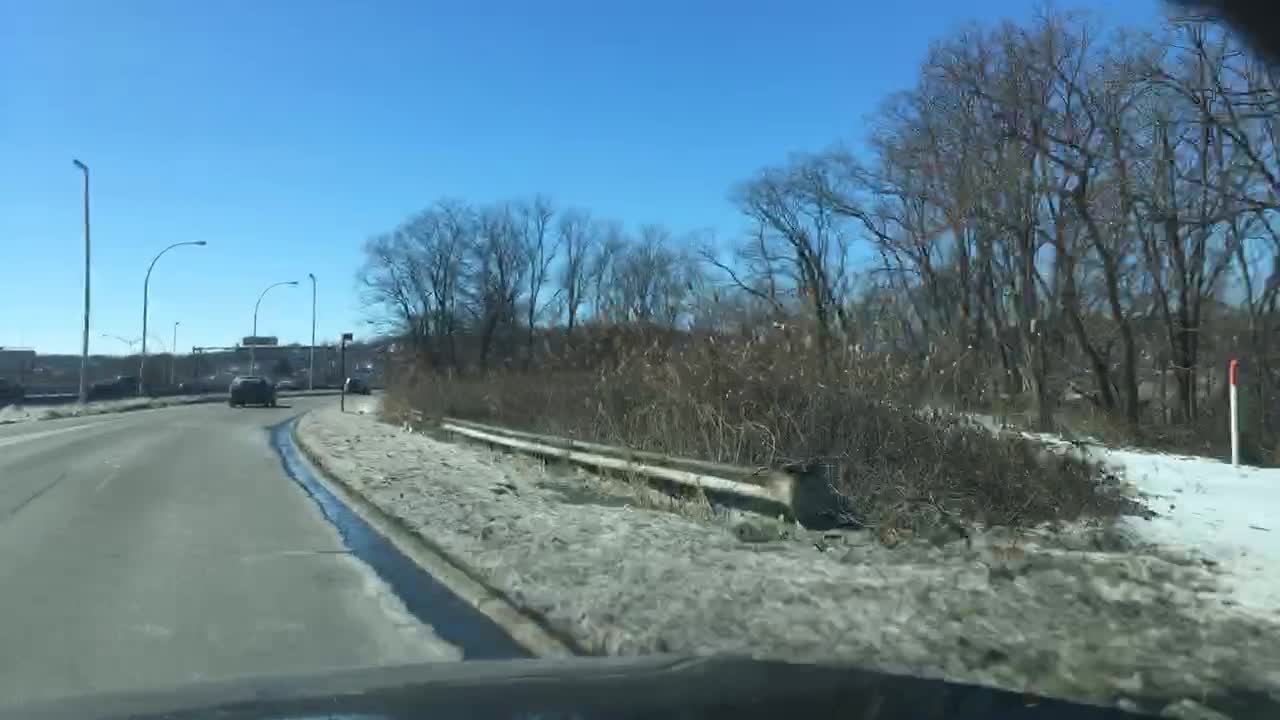car: (229, 374, 278, 406), (343, 376, 371, 395), (114, 371, 138, 381)
traffic sign: (242, 335, 278, 344)
